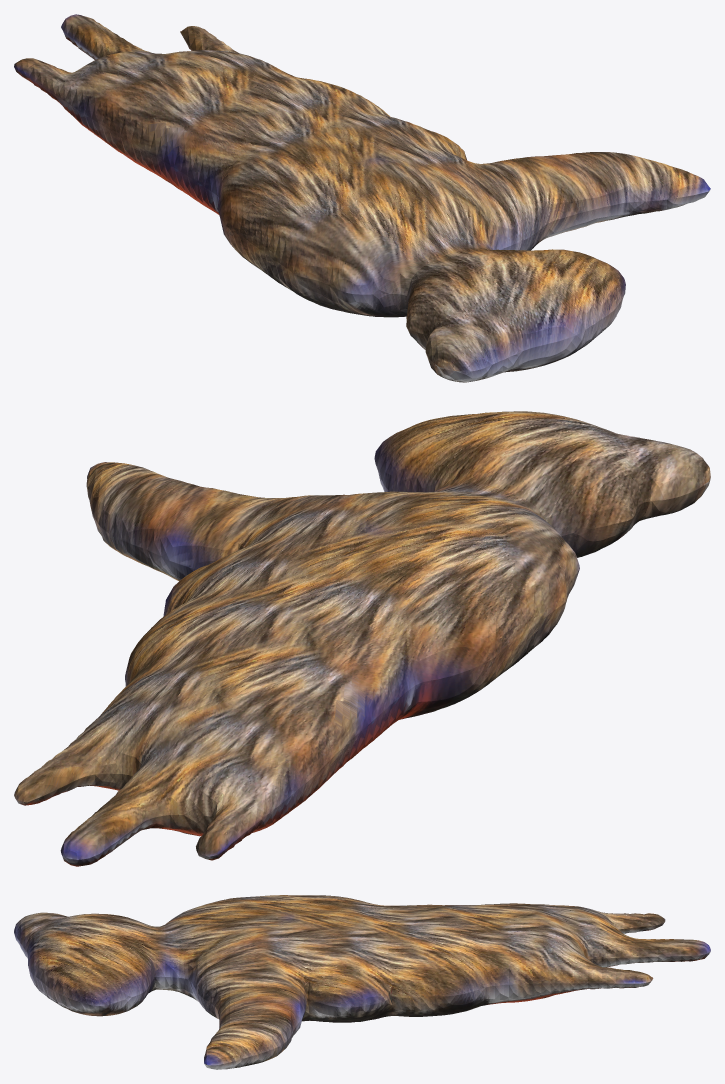
The model's file is 3Bp9babyBear3D.obj.
3 views of the same model, one above another, from view 1: azimuth 30°, elevation 25°; view 2: azimuth 150°, elevation 25°; view 3: azimuth 270°, elevation 25° (orthographic). The views are drawn at different scales.
Visible parts, largest first — view 1: Object.1; view 2: Object.1; view 3: Object.1.
Part boxes in pixels (bbox=[...]): Object.1: bbox=[14, 14, 710, 382]; Object.1: bbox=[14, 411, 710, 866]; Object.1: bbox=[14, 895, 710, 1069].
Size of the model in its own units: 0.166 by 0.0453 by 0.3276.
1 material, 1 textured.
